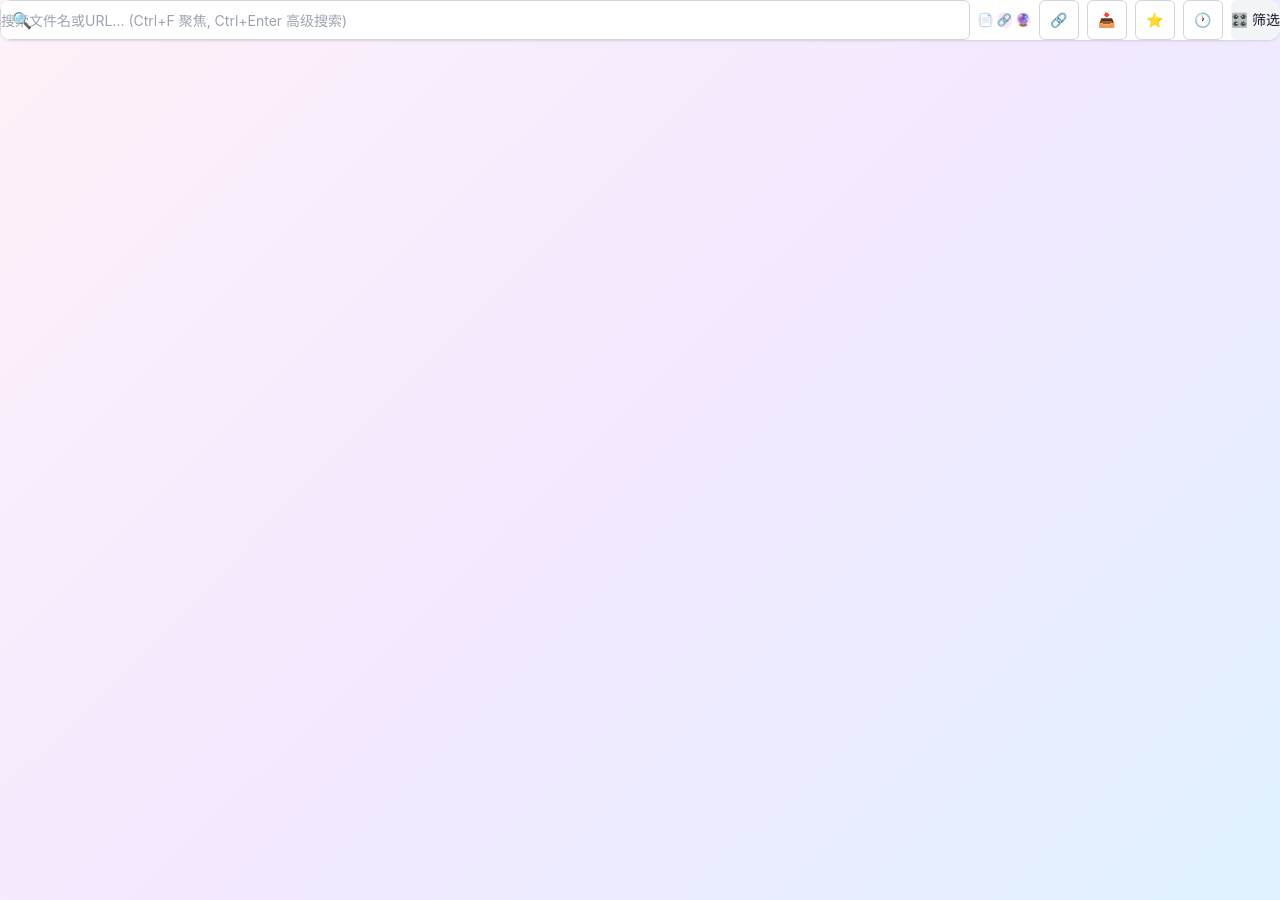
it: SearchFilter Component › should toggle filter panel
The width and height of the screenshot is (1280, 900).
Click the button "🎛️ 筛选".
click(1255, 20)  # box 1231,0 -> 1279,40
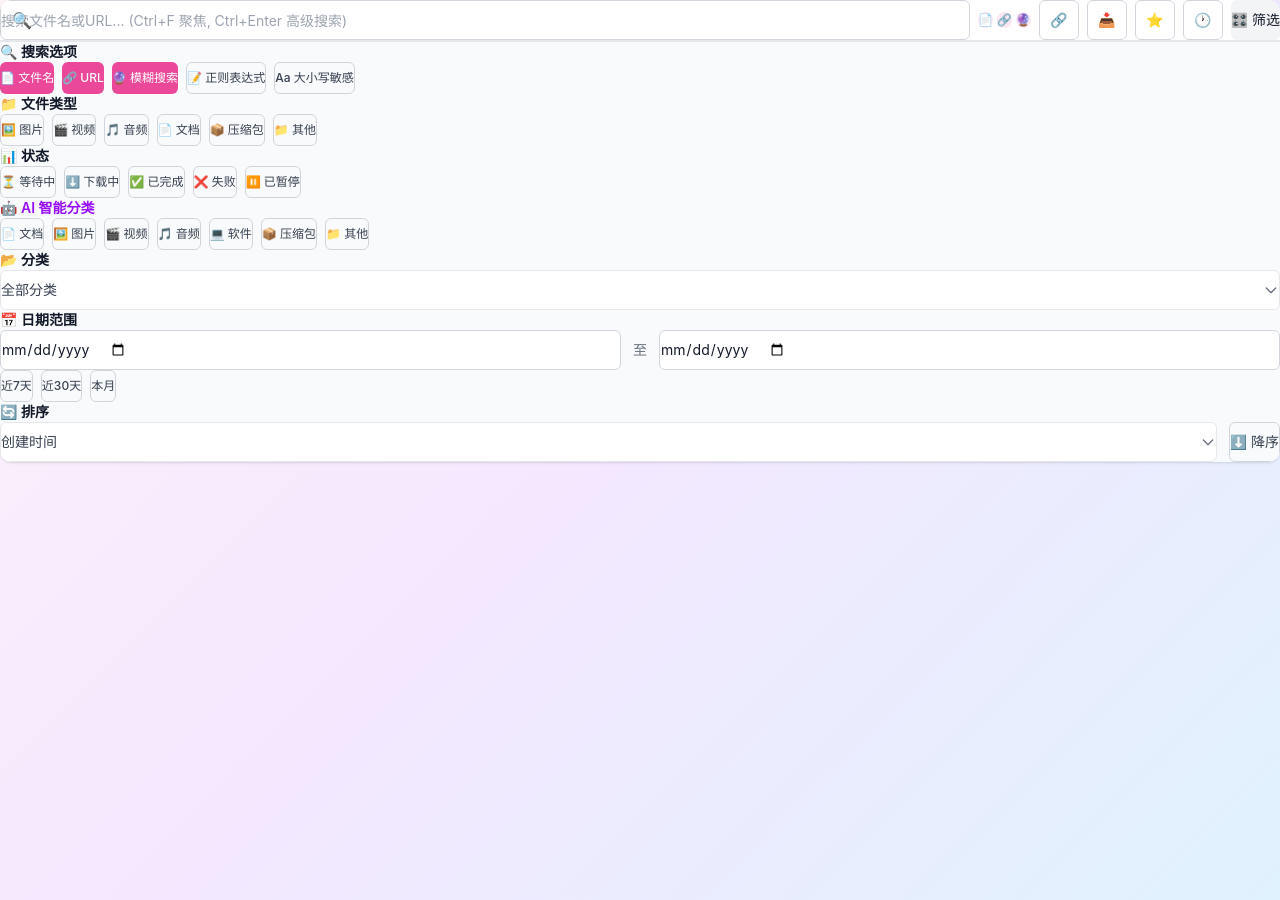
Now the heading "🔍 搜索选项" is shown, box 0,43 -> 77,60
Click the button "🎛️ 筛选".
click(1255, 20)  # box 1231,0 -> 1279,40
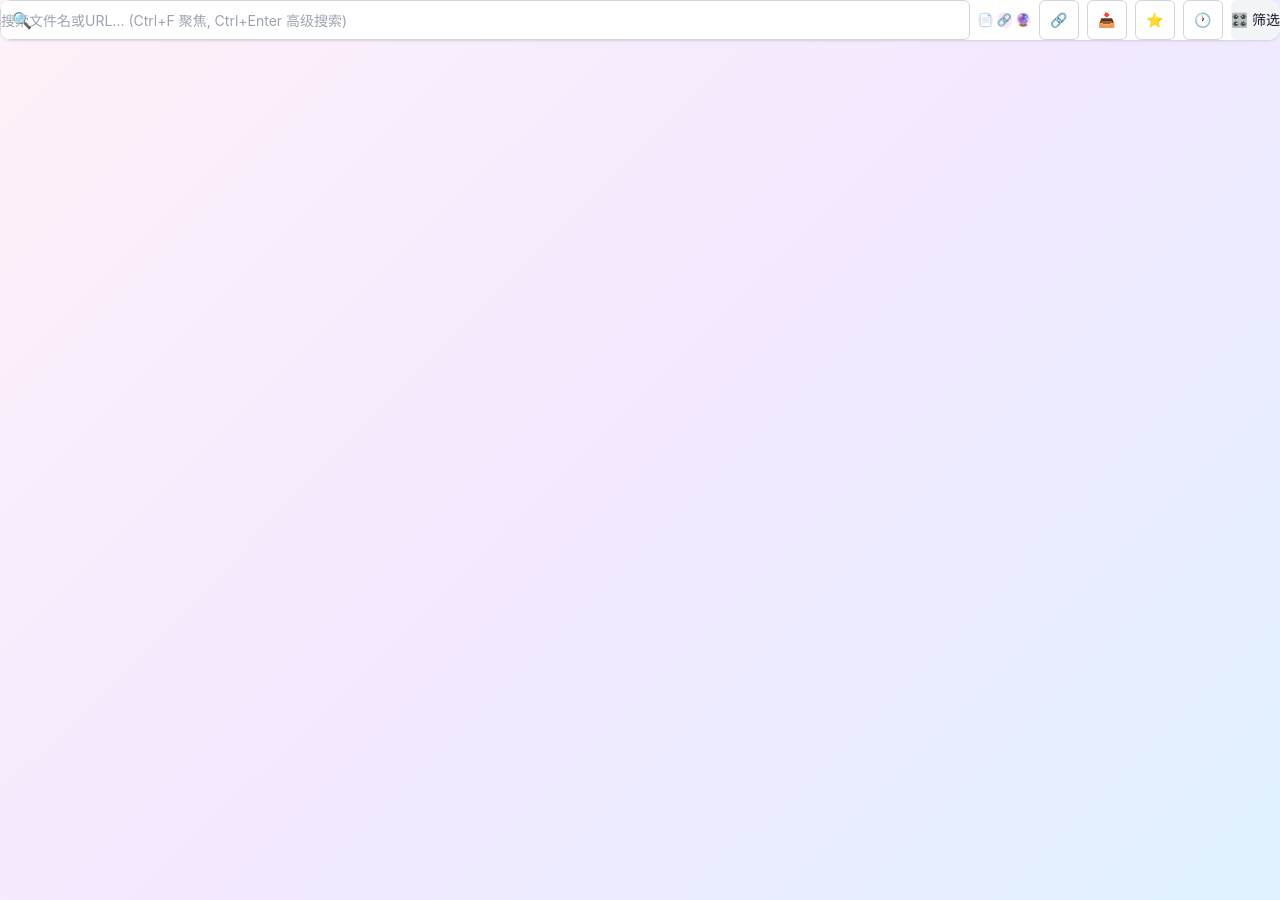
Now the heading "搜索选项" is gone
